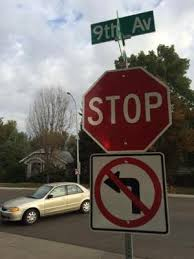No_left_turn: (94, 157, 162, 229)
